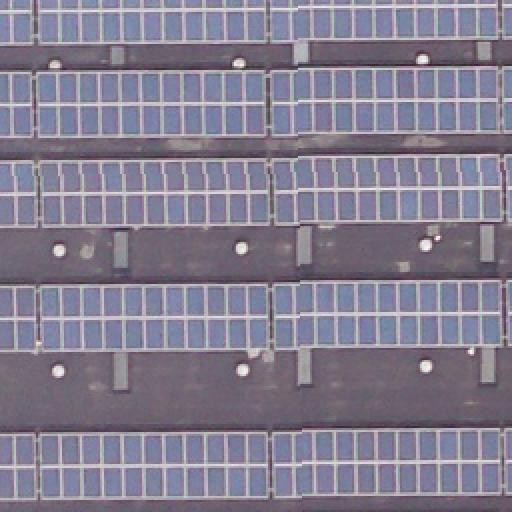solar-panel: (272, 425, 512, 495), (35, 157, 269, 227), (38, 281, 270, 351), (272, 156, 504, 224), (36, 70, 268, 138), (37, 430, 267, 498), (273, 280, 503, 348), (270, 68, 498, 136), (38, 0, 266, 44), (269, 0, 499, 40), (1, 283, 39, 349), (1, 163, 39, 229), (0, 431, 36, 497), (0, 71, 32, 137), (0, 1, 32, 47), (504, 155, 512, 221), (504, 68, 512, 132), (500, 1, 512, 39), (505, 279, 511, 345)
